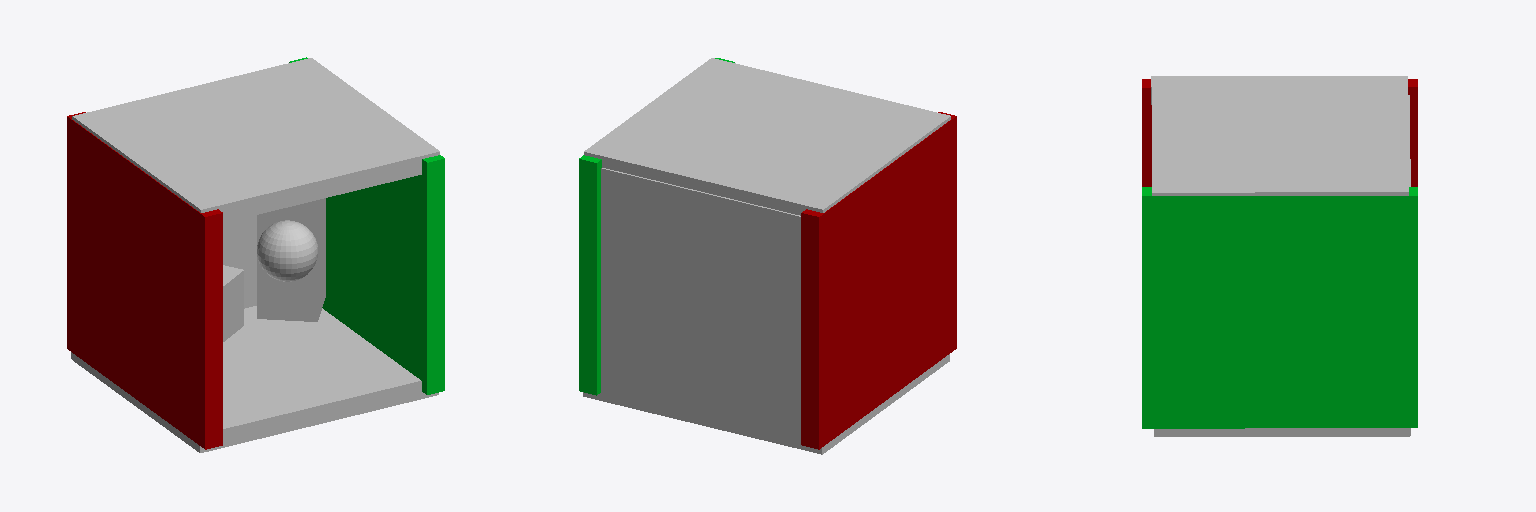
The model's file is ttest.obj.
3 views of the same model, side by side, from view 1: azimuth 30°, elevation 25°; view 2: azimuth 150°, elevation 25°; view 3: azimuth 270°, elevation 25° (orthographic).
Visible parts, largest first — view 1: mocheng_mocheng, 球体_球体; view 2: mocheng_mocheng; view 3: mocheng_mocheng.
Boxes of the visible parts, <box> form: mocheng_mocheng: <box>67,57,444,452</box>; 球体_球体: <box>257,220,317,281</box>; mocheng_mocheng: <box>579,58,956,454</box>; mocheng_mocheng: <box>1142,76,1417,436</box>.
Bounding box in the file's own units: 9.02 × 8.75 × 8.99.